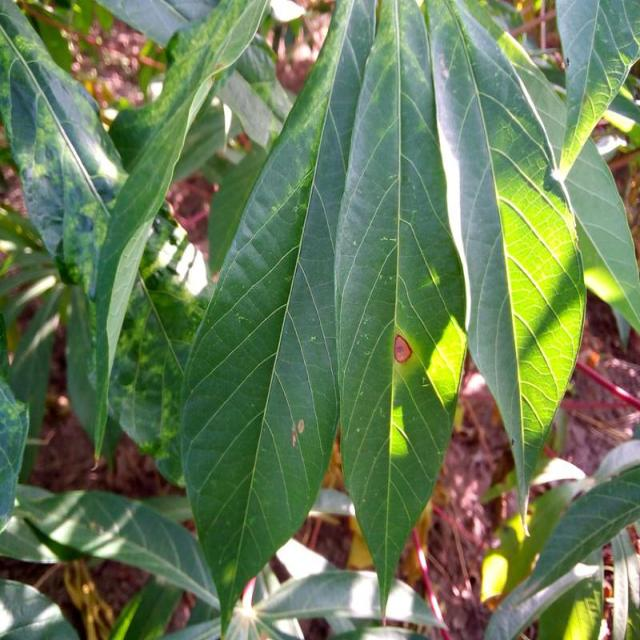cassava leaf: (178, 0, 376, 637), (421, 0, 588, 534), (332, 0, 469, 624)
